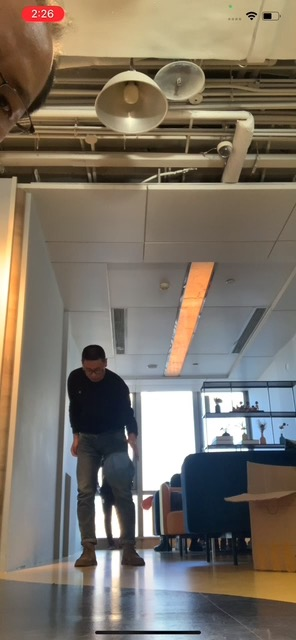ball: (103, 450, 135, 487)
